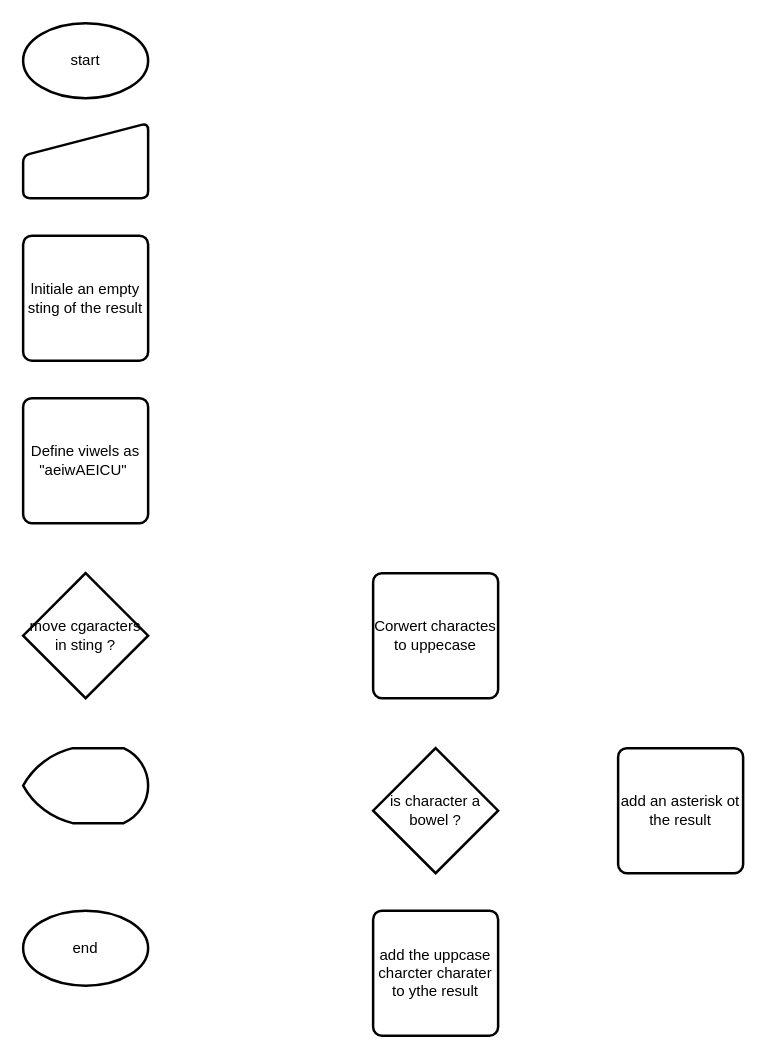
Image size: 765x1058. Some labels were removed from this diagram. The shapes that lost their labels are listed below. From the top down, each one's centre as x and y in pixels, then its label:
(85,160): Read input sting form the user
(85,785): print thr modifined sting
